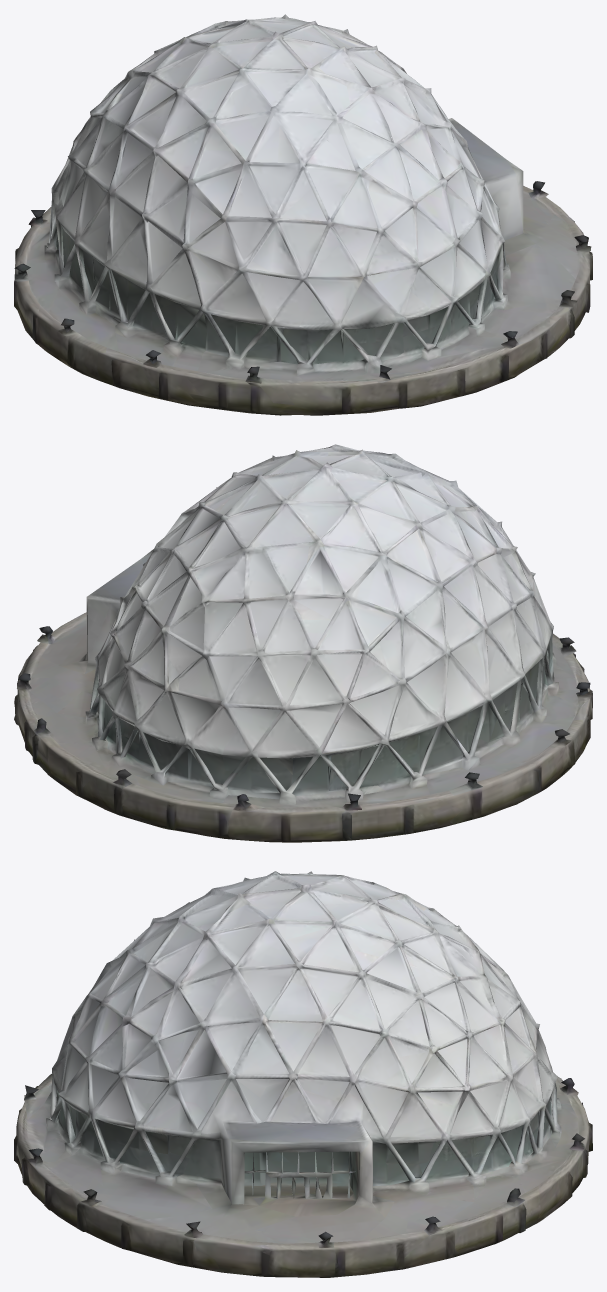
The model's file is lm_lbdome.glb.
The picture shows the model from 3 angles, top to bottom: view 1: azimuth 30°, elevation 25°; view 2: azimuth 150°, elevation 25°; view 3: azimuth 270°, elevation 25°; orthographic projection.
Visible parts, largest first — view 1: tripo_node_43b8d753-0a6a-4f89-acf3-c1d39496a365; view 2: tripo_node_43b8d753-0a6a-4f89-acf3-c1d39496a365; view 3: tripo_node_43b8d753-0a6a-4f89-acf3-c1d39496a365.
Part boxes in pixels (bbox=[...]): tripo_node_43b8d753-0a6a-4f89-acf3-c1d39496a365: bbox=[14, 14, 592, 415]; tripo_node_43b8d753-0a6a-4f89-acf3-c1d39496a365: bbox=[14, 444, 592, 842]; tripo_node_43b8d753-0a6a-4f89-acf3-c1d39496a365: bbox=[14, 871, 592, 1277].
Size of the model in its own units: 0.999 by 0.5005 by 0.9995.
Materials: 1 (1 with a texture image).
